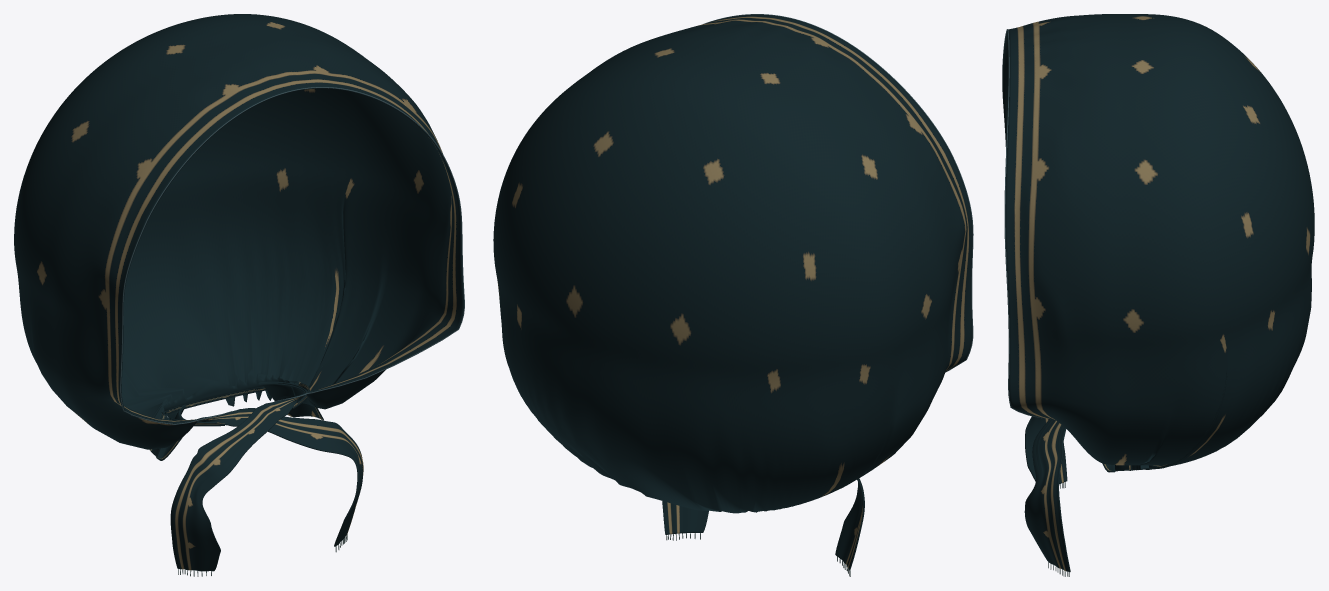
File: Feminine-bob-tshirt-pashmina250-headgear.glb
The picture shows the model from 3 angles, left to right: view 1: azimuth 30°, elevation 25°; view 2: azimuth 150°, elevation 25°; view 3: azimuth 270°, elevation 25°; orthographic projection. The views are drawn at different scales.
Visible parts, largest first — view 1: 226 headgear / Headwear / continuous woven pashmina239, 226 headgear / Headwear / face edge239; view 2: 226 headgear / Headwear / continuous woven pashmina239, 226 headgear / Headwear / face edge239; view 3: 226 headgear / Headwear / continuous woven pashmina239, 226 headgear / Headwear / face edge239.
Part boxes in pixels (bbox=[...]): 226 headgear / Headwear / continuous woven pashmina239: bbox=[14, 14, 463, 571]; 226 headgear / Headwear / face edge239: bbox=[120, 87, 464, 424]; 226 headgear / Headwear / continuous woven pashmina239: bbox=[493, 14, 972, 570]; 226 headgear / Headwear / face edge239: bbox=[703, 14, 973, 372]; 226 headgear / Headwear / continuous woven pashmina239: bbox=[1002, 14, 1314, 572]; 226 headgear / Headwear / face edge239: bbox=[1002, 29, 1045, 418].
Bounding box in the file's own units: 1.1 × 1.39 × 0.7846.
3 materials, 1 textured.
